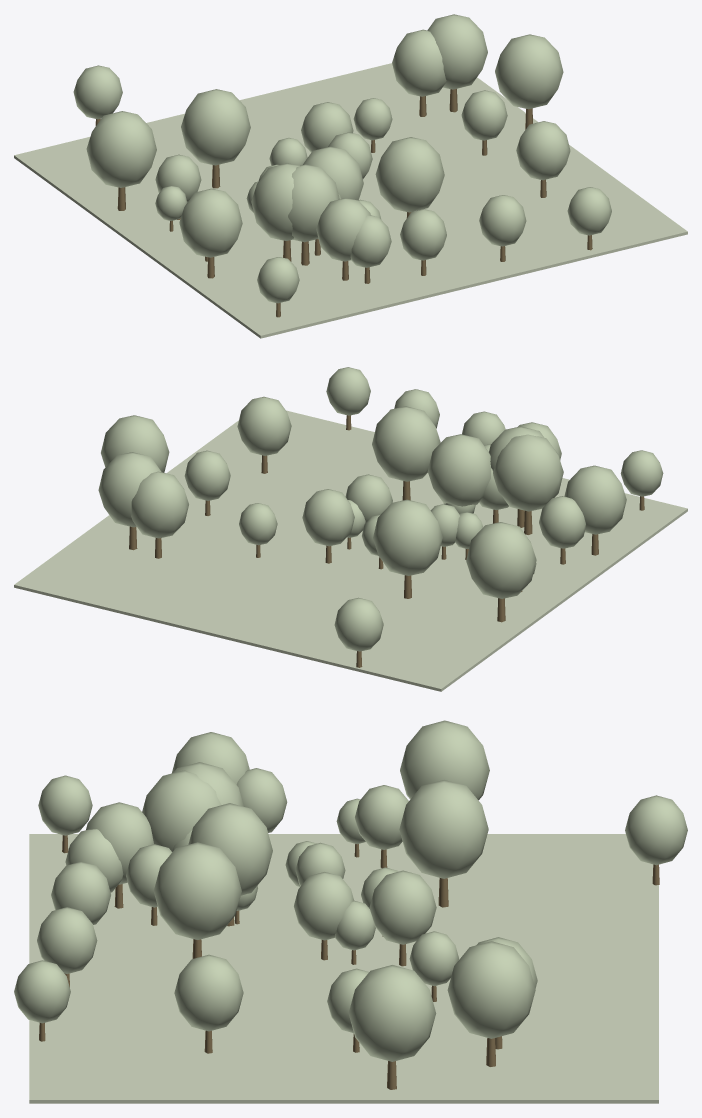
3 views of the same model, one above another, from view 1: azimuth 30°, elevation 25°; view 2: azimuth 150°, elevation 25°; view 3: azimuth 270°, elevation 25° (orthographic). The views are drawn at different scales.
Visible parts, largest first — view 1: terrain, lod-near-19, lod-near-0, lod-near-9, lod-near-5, lod-near-23, lod-near-21, lod-near-15, lod-near-20, lod-near-22, lod-near-10, lod-near-3 (+14 smaller); view 2: terrain, lod-near-19, lod-near-22, lod-near-0, lod-near-9, lod-near-13, lod-near-15, lod-near-23, lod-near-21, lod-near-10, lod-near-5, lod-near-1 (+13 smaller); view 3: terrain, lod-near-0, lod-near-9, lod-near-21, lod-near-5, lod-near-19, lod-near-13, lod-near-10, lod-near-20, lod-near-1, lod-near-17, lod-near-29 (+16 smaller).
Part boxes in pixels (x1,y1,x2,y2): terrain: (14,63,687,338); lod-near-19: (86,111,156,187); lod-near-0: (181,89,250,165); lod-near-9: (375,137,444,212); lod-near-5: (495,34,563,109); lod-near-23: (179,188,242,257); lod-near-21: (427,14,487,89); lod-near-15: (392,29,446,96); lod-near-20: (288,164,339,242); lod-near-22: (251,163,299,240); lod-near-10: (516,121,570,180); lod-near-3: (316,198,370,261); terrain: (14,410,687,691); lod-near-19: (466,522,536,598); lod-near-22: (493,434,563,511); lod-near-0: (373,499,442,575); lod-near-9: (372,406,440,481); lod-near-13: (427,434,490,506); lod-near-15: (131,471,188,538); lod-near-23: (564,465,626,534); lod-near-21: (98,452,161,527); lod-near-10: (237,396,291,455); lod-near-5: (101,415,169,472); lod-near-1: (302,489,354,546); terrain: (29,834,658,1103); lod-near-0: (399,780,488,878); lod-near-9: (153,842,241,939); lod-near-21: (447,941,535,1038); lod-near-5: (348,965,436,1061); lod-near-19: (400,720,489,800); lod-near-13: (188,803,272,895); lod-near-10: (174,954,243,1031); lod-near-20: (142,770,221,851); lod-near-1: (369,870,436,944); lod-near-17: (625,795,687,865); lod-near-29: (37,907,97,973).
Bounding box in the file's own units: 33.49 × 7.31 × 34.25.
